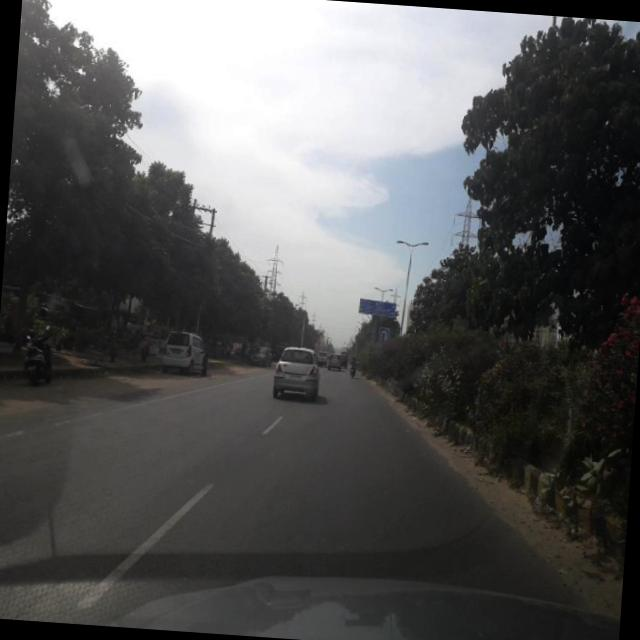crack: (314, 426, 552, 588)
